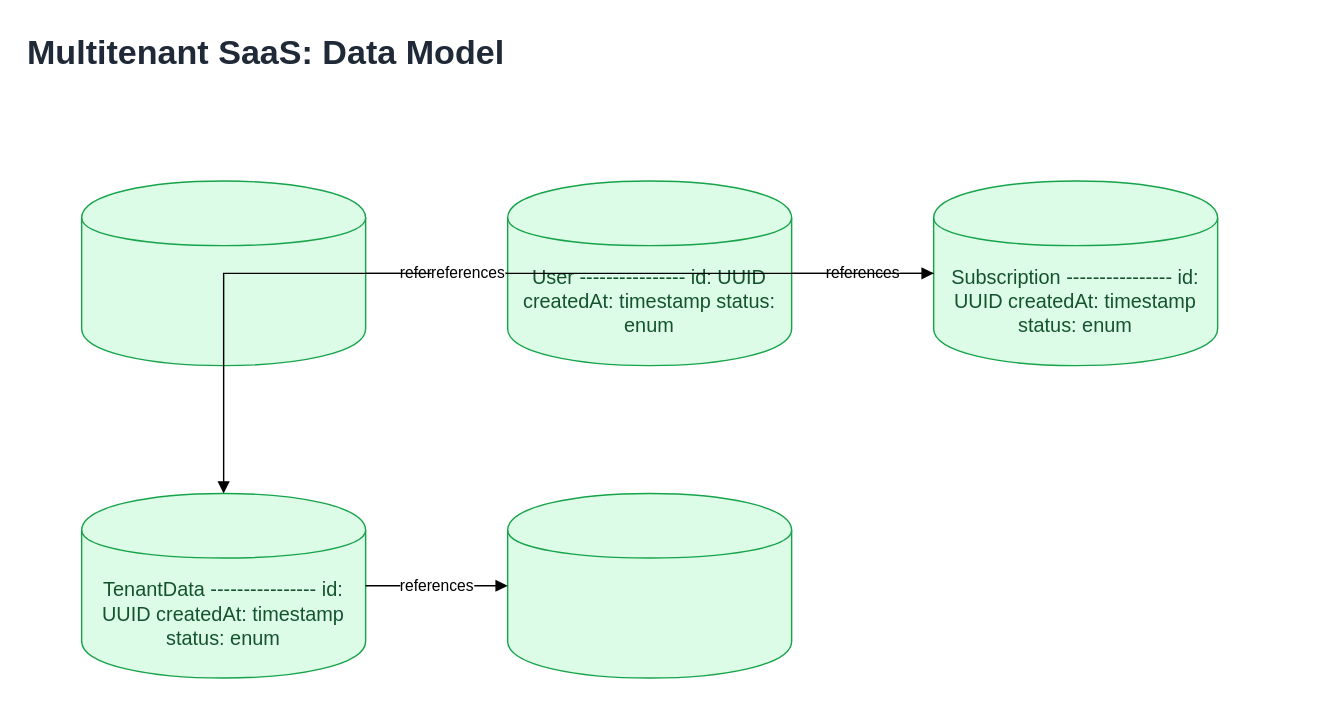
Some shapes in this 1326 by 703 pixel diagram are drawn without their labels. Here are the shapes that lost their labels. From the top down, the box of each, then its label:
(80, 180, 366, 366): Tenant ---------------- id: UUID createdAt: timestamp status: enum
(506, 492, 792, 678): AuditEvent ---------------- id: UUID createdAt: timestamp status: enum
